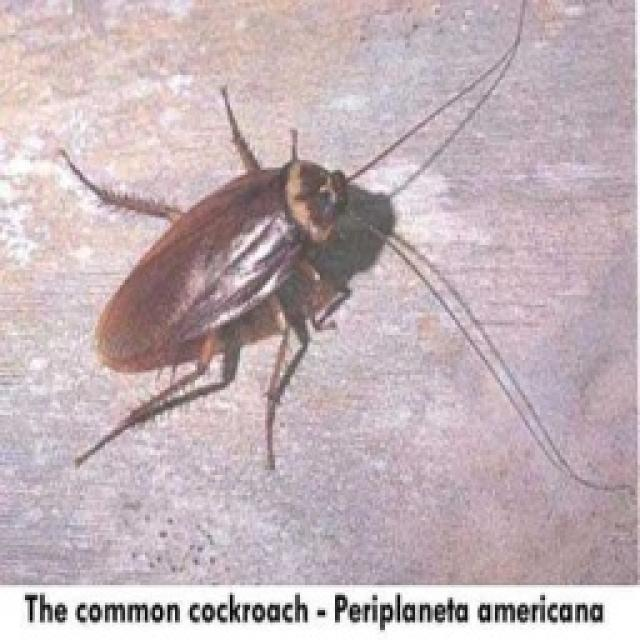cockroach: (47, 108, 390, 480)
